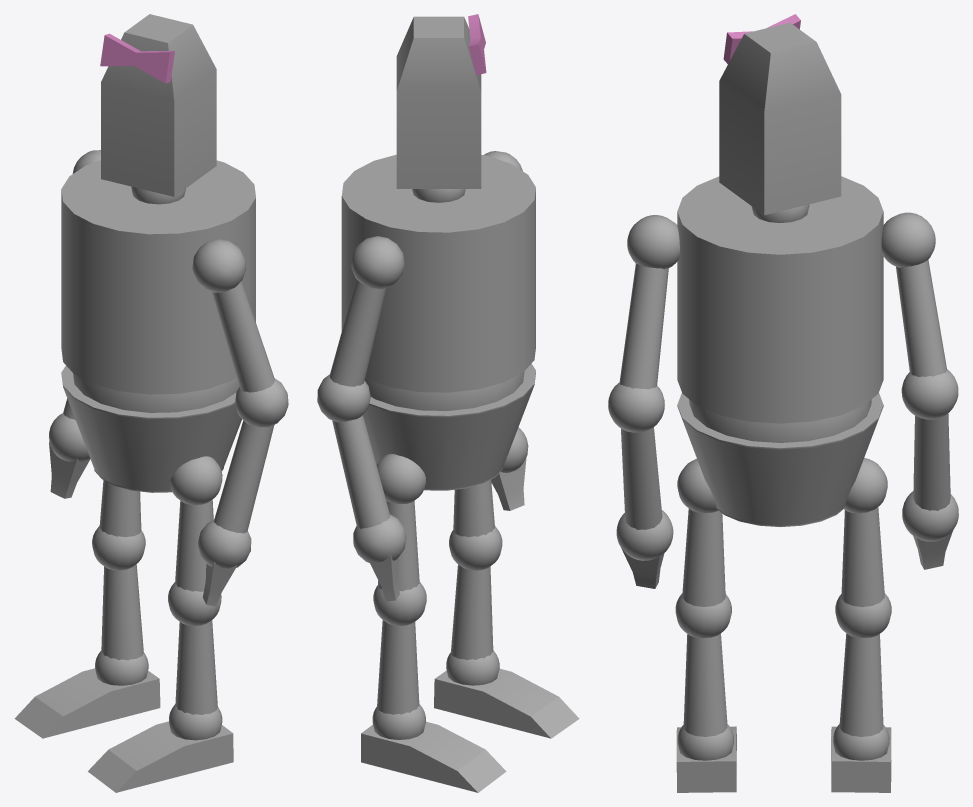
Rendered from Mannequin_Girl_Standing.fbx.
3 renders of one model, left to right at view 1: azimuth 30°, elevation 25°; view 2: azimuth 150°, elevation 25°; view 3: azimuth 270°, elevation 25°, orthographic. The views are drawn at different scales.
Visible parts, largest first — view 1: pCylinder1, pCube5, pCylinder2, pCube2, pCube1, pCylinder10, pCylinder9, pCylinder4, pCylinder6, pSphere1, pCylinder5, pSphere11 (+13 smaller); view 2: pCylinder1, pCube5, pCylinder2, pCube1, pCube2, pCylinder8, pCylinder6, pCylinder3, pCylinder4, pSphere1, pSphere8, pCylinder5 (+13 smaller); view 3: pCylinder1, pCube5, pCylinder2, pCylinder9, pCylinder3, pCylinder4, pCylinder6, pCylinder7, pCylinder5, pCylinder10, pSphere1, pCylinder8 (+17 smaller).
Part boxes in pixels (left/top/right/bottom): pCylinder1: left=61, top=160, right=255, bottom=394; pCube5: left=101, top=14, right=216, bottom=196; pCylinder2: left=61, top=365, right=241, bottom=492; pCube2: left=88, top=721, right=233, bottom=792; pCube1: left=14, top=668, right=160, bottom=738; pCylinder10: left=214, top=420, right=274, bottom=533; pCylinder9: left=212, top=281, right=274, bottom=392; pCylinder4: left=101, top=564, right=143, bottom=660; pCylinder6: left=175, top=620, right=217, bottom=714; pSphere1: left=73, top=373, right=239, bottom=412; pCylinder5: left=175, top=499, right=213, bottom=591; pSphere11: left=192, top=239, right=245, bottom=292; pCylinder1: left=341, top=154, right=535, bottom=392; pCube5: left=396, top=16, right=481, bottom=188; pCylinder2: left=363, top=363, right=535, bottom=490; pCube1: left=361, top=721, right=506, bottom=792; pCube2: left=434, top=668, right=579, bottom=738; pCylinder8: left=332, top=415, right=390, bottom=528; pCylinder6: left=451, top=564, right=493, bottom=659; pCylinder3: left=330, top=279, right=386, bottom=386; pCylinder4: left=377, top=620, right=419, bottom=714; pSphere1: left=364, top=371, right=524, bottom=410; pSphere8: left=351, top=236, right=404, bottom=289; pCylinder5: left=453, top=480, right=494, bottom=537; pCylinder1: left=677, top=176, right=883, bottom=423; pCube5: left=719, top=22, right=841, bottom=215; pCylinder2: left=677, top=393, right=883, bottom=527; pCylinder9: left=619, top=264, right=668, bottom=389; pCylinder3: left=896, top=260, right=946, bottom=376; pCylinder4: left=839, top=633, right=883, bottom=736; pCylinder6: left=683, top=633, right=727, bottom=736; pCylinder7: left=841, top=507, right=884, bottom=607; pCylinder5: left=682, top=508, right=725, bottom=606; pCylinder10: left=621, top=427, right=662, bottom=529; pSphere1: left=689, top=399, right=871, bottom=442; pCylinder8: left=913, top=413, right=950, bottom=510.
Size of the model in its own units: 1.91 by 7.3 by 3.12.
